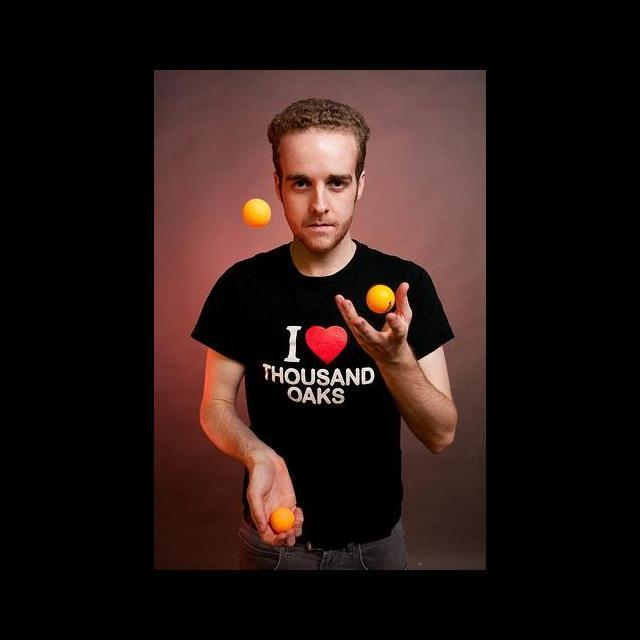ping-pong-ball: (241, 196, 274, 228), (364, 284, 396, 314), (268, 506, 296, 534)
